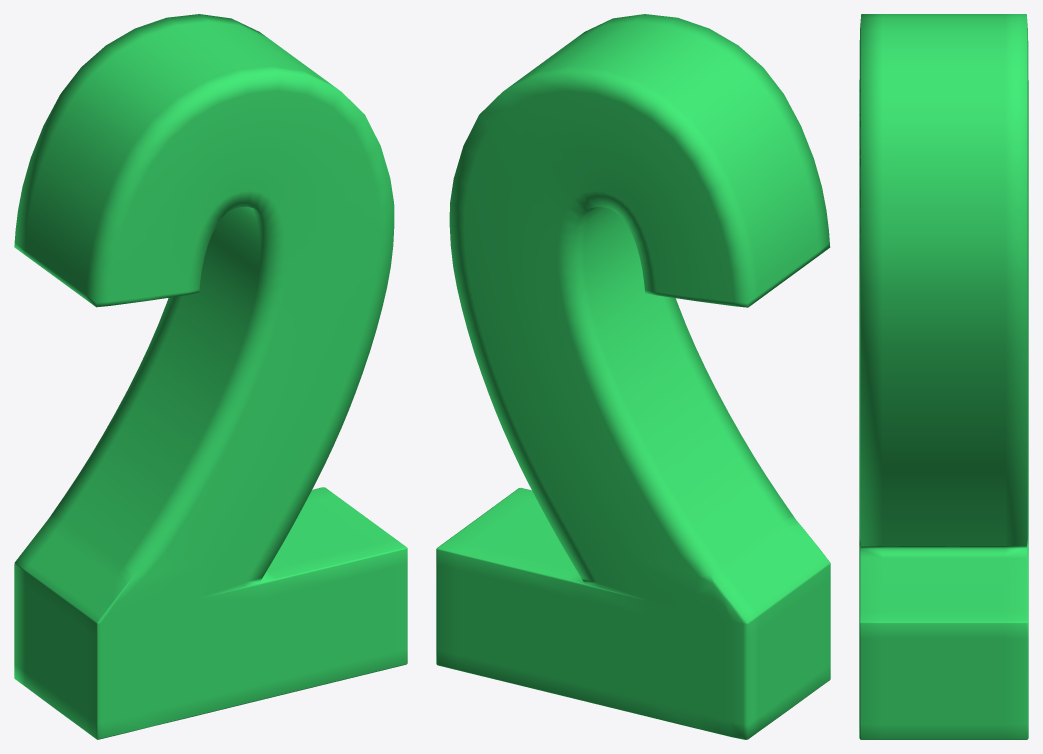
The picture shows the model from 3 angles, left to right: view 1: azimuth 30°, elevation 25°; view 2: azimuth 150°, elevation 25°; view 3: azimuth 270°, elevation 25°; orthographic projection.
Parts seen in each view (by area): view 1: 2; view 2: 2; view 3: 2.
Part boxes in pixels (x1,y1,x2,y2): 2: (14, 14, 407, 739); 2: (436, 14, 830, 739); 2: (859, 14, 1028, 739).
Size of the model in its own units: 644 by 1236 by 300.
